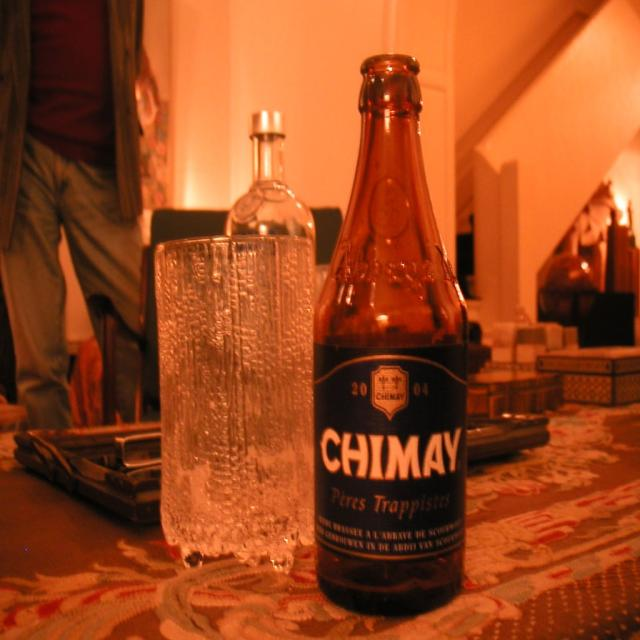chimay: (316, 356, 468, 559)
